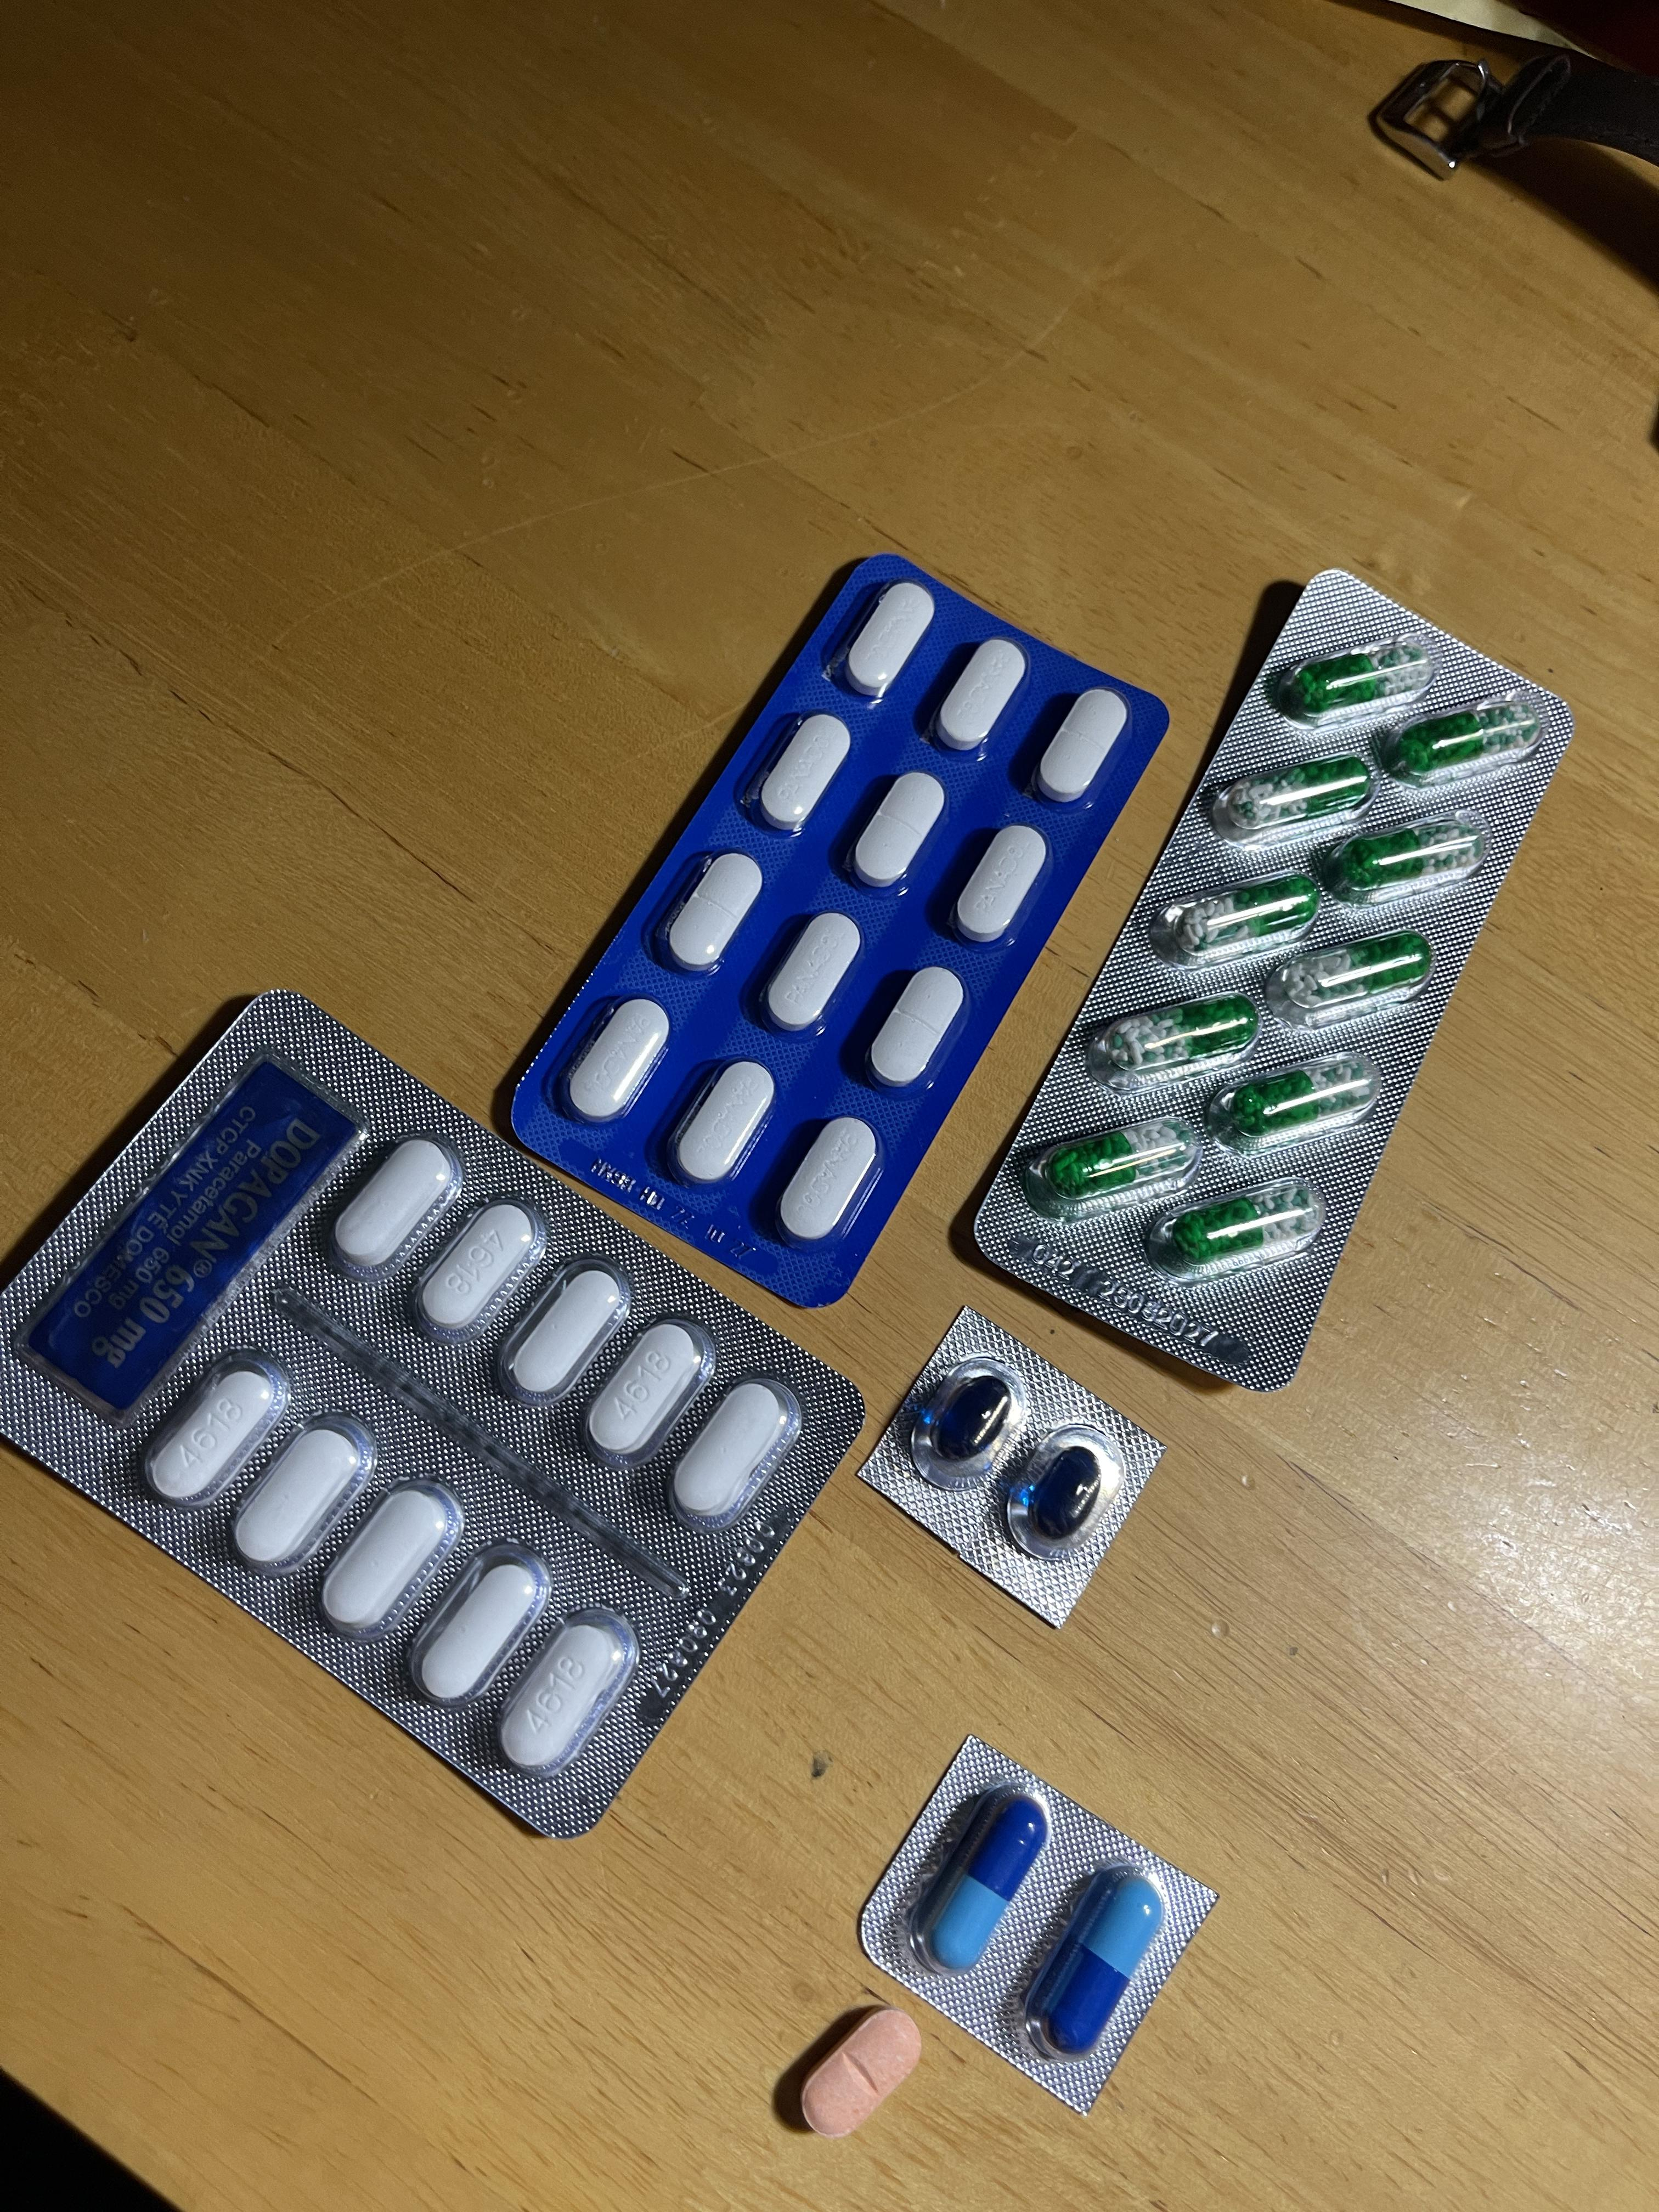Lincomyxin_500mg: (1030, 1446, 1106, 1539), (936, 1374, 1012, 1458)
Loratadine_10mg: (802, 2006, 923, 2140)
Paracetamol_350mg: (561, 995, 674, 1122), (868, 968, 967, 1093), (660, 852, 762, 972), (777, 1118, 875, 1243), (761, 911, 861, 1033), (955, 823, 1050, 946), (840, 580, 938, 699), (751, 715, 847, 834), (932, 637, 1028, 753), (851, 772, 945, 890), (1031, 689, 1125, 804)
Paracetamol_500mg: (397, 1541, 550, 1708), (313, 1475, 465, 1644), (138, 1352, 296, 1509), (495, 1606, 638, 1775), (664, 1372, 793, 1535), (233, 1420, 369, 1574), (495, 1261, 633, 1409), (580, 1320, 714, 1471), (413, 1195, 548, 1339), (334, 1136, 461, 1268), (672, 1059, 777, 1186)
Paracetamol_650mg: (1149, 1175, 1319, 1277), (1018, 1121, 1187, 1220), (1377, 693, 1552, 788), (1273, 631, 1440, 730), (1264, 935, 1434, 1028), (1096, 991, 1261, 1084), (1227, 1059, 1380, 1139), (1176, 882, 1319, 955), (1333, 823, 1480, 895), (1228, 757, 1371, 825)
pill: (1029, 1867, 1163, 2058), (921, 1793, 1051, 1974)
